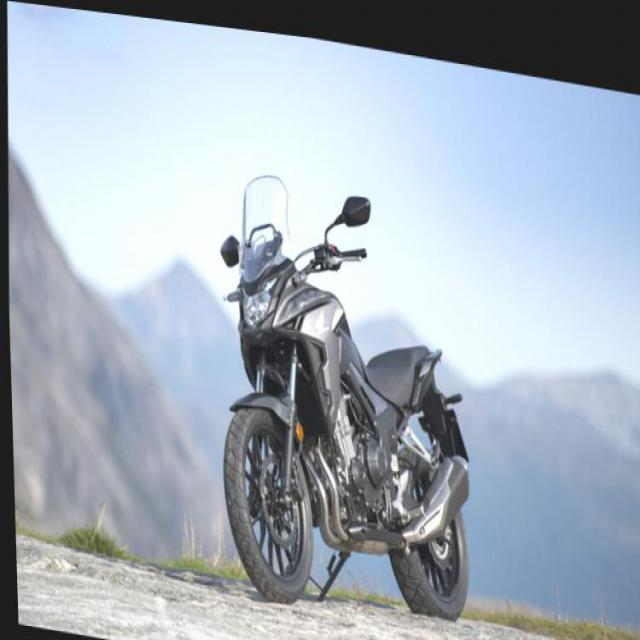CB500X: (210, 165, 478, 626)
